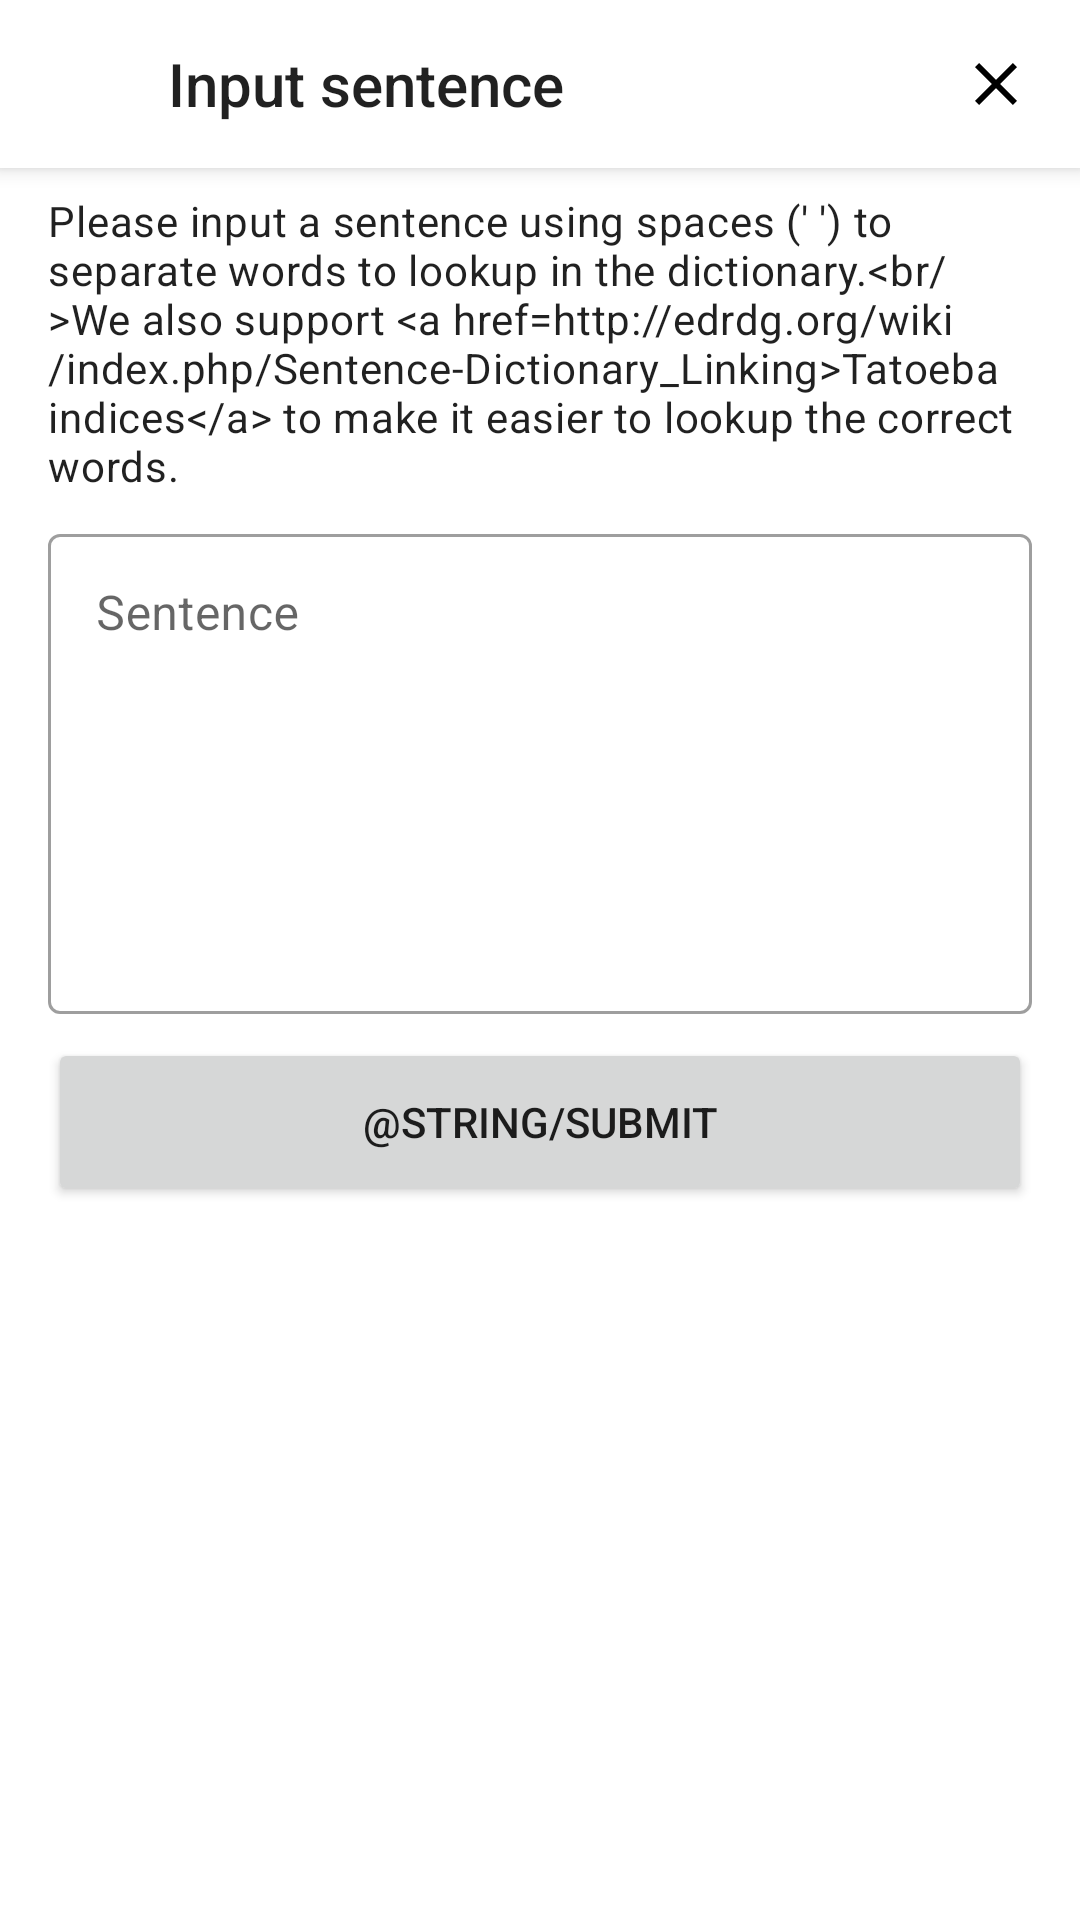

Named icons in this screenshot (1080 x 1920) and their centers, (x=x, y=y):
clear: (x=996, y=84)
